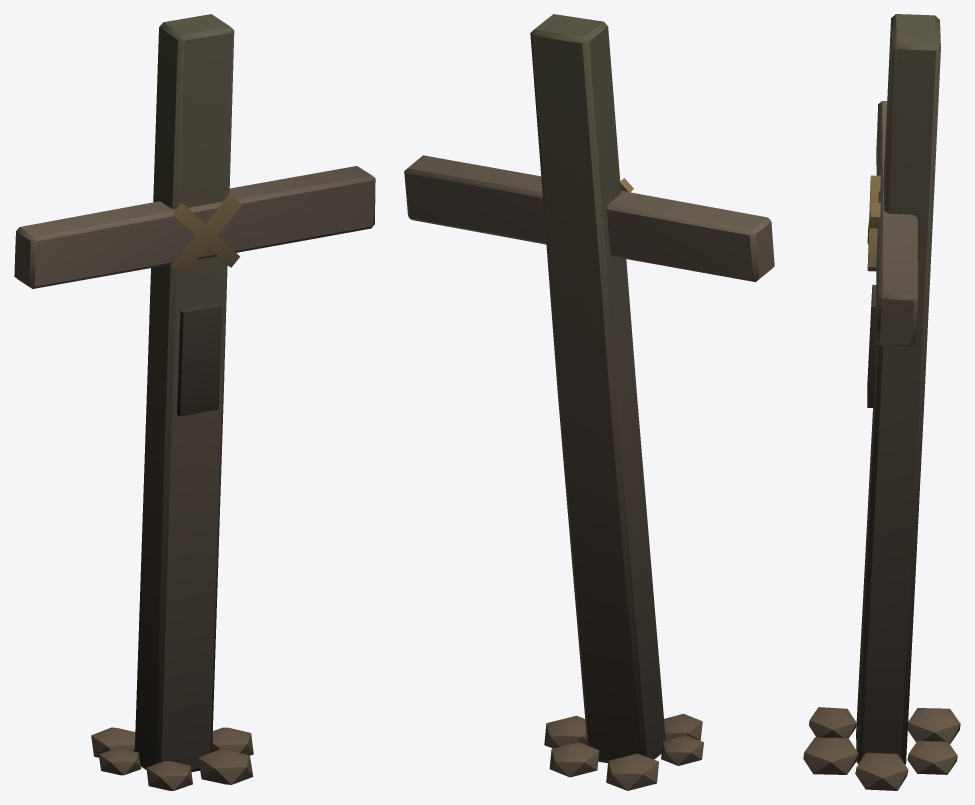
Rendered from ph_prop_cross_wood.glb.
The picture shows the model from 3 angles, left to right: view 1: azimuth 30°, elevation 25°; view 2: azimuth 150°, elevation 25°; view 3: azimuth 270°, elevation 25°; orthographic projection. The views are drawn at different scales.
Visible parts, largest first — view 1: ph_prop_cross_wood; view 2: ph_prop_cross_wood; view 3: ph_prop_cross_wood.
Part boxes in pixels (x1=…): ph_prop_cross_wood: x1=14, y1=14, x2=375, y2=790; ph_prop_cross_wood: x1=404, y1=14, x2=774, y2=790; ph_prop_cross_wood: x1=803, y1=14, x2=960, y2=790.
Bounding box in the file's own units: 0.5039 × 1.01 × 0.1912.
